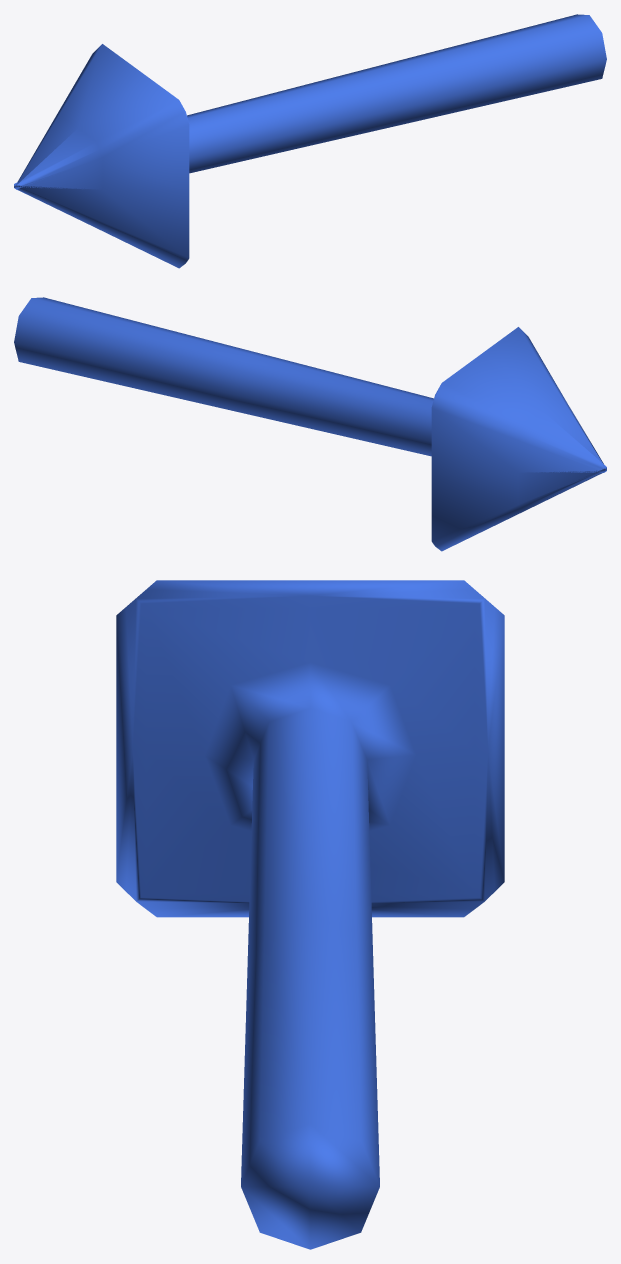
Rendered from Flecha.fbx.
The picture shows the model from 3 angles, top to bottom: view 1: azimuth 30°, elevation 25°; view 2: azimuth 150°, elevation 25°; view 3: azimuth 270°, elevation 25°; orthographic projection. The views are drawn at different scales.
Parts seen in each view (by area): view 1: Cube.015; view 2: Cube.015; view 3: Cube.015.
Boxes of the visible parts, x1,y1,x2,y2 form: Cube.015: (14, 14, 606, 268); Cube.015: (14, 297, 606, 551); Cube.015: (116, 580, 504, 1249).
Size of the model in its own units: 636 by 178 by 186.
